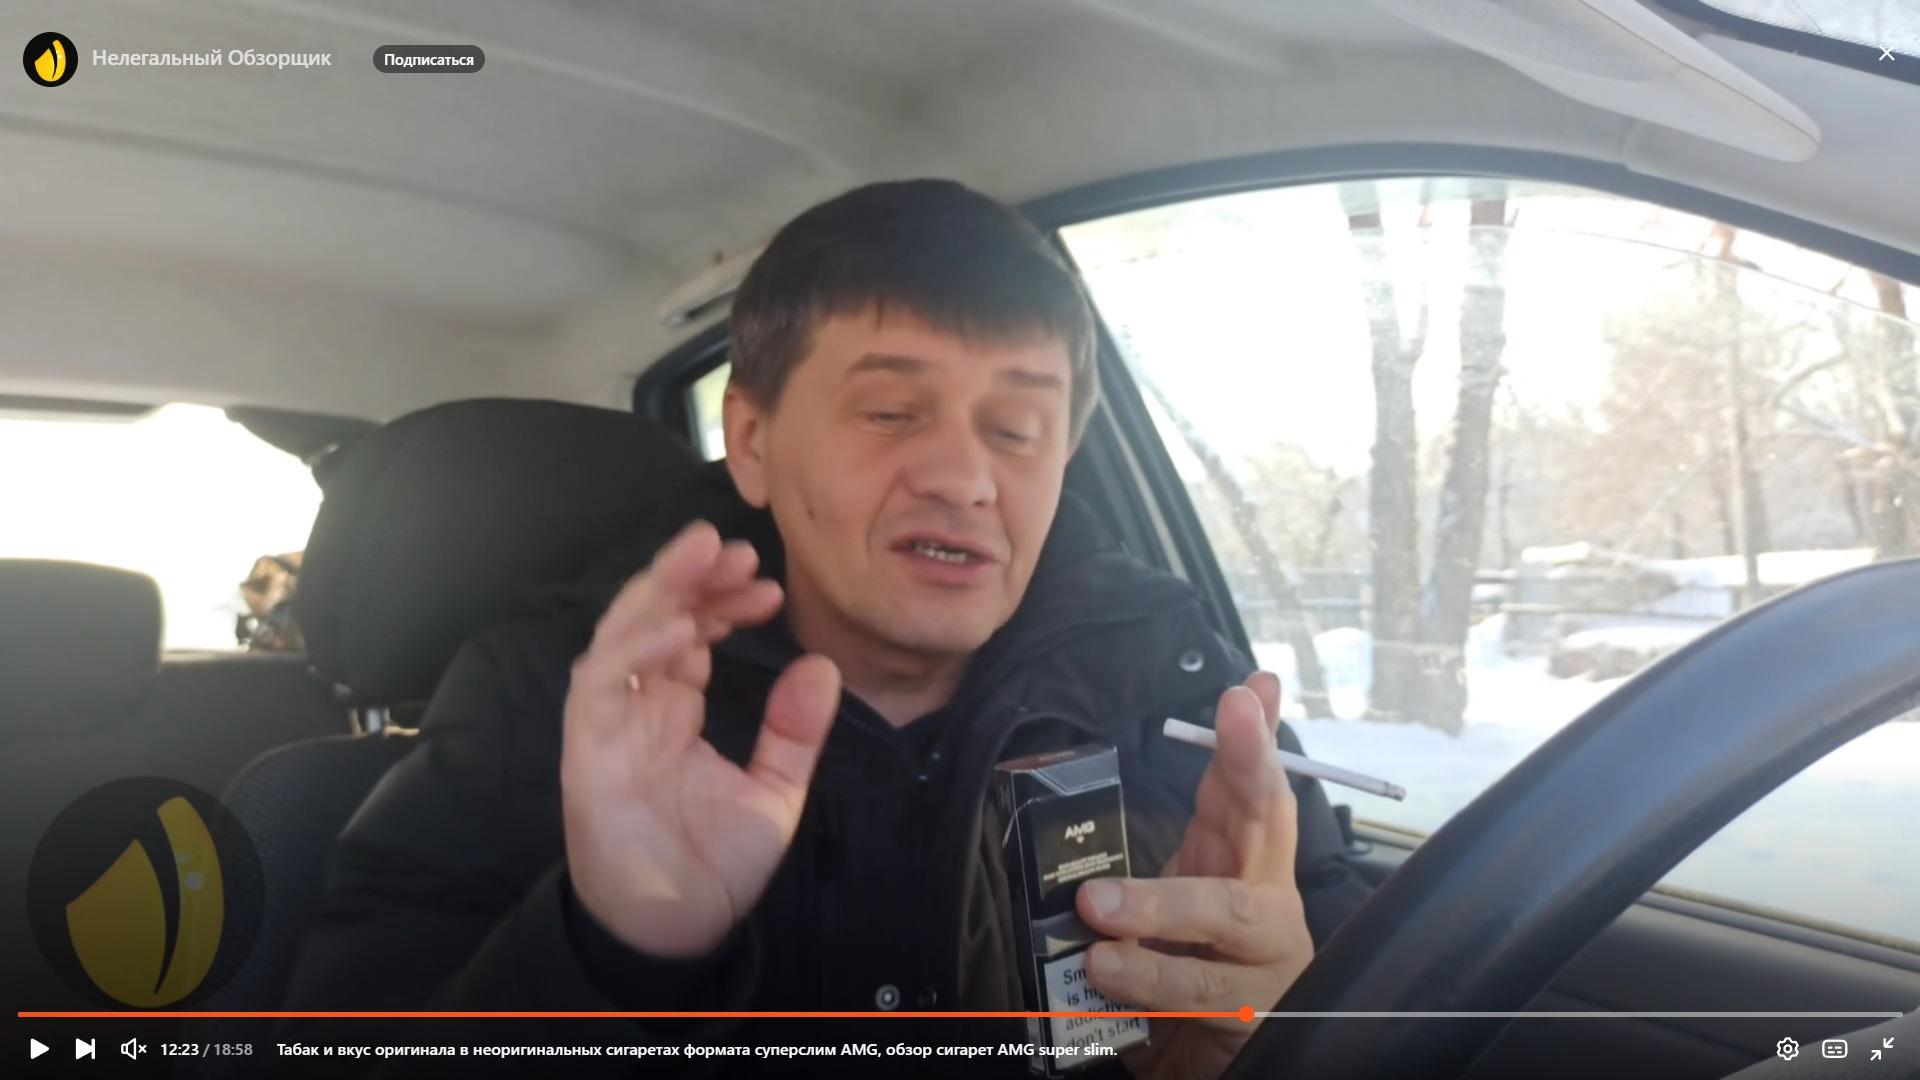cigarette: (1163, 717, 1410, 802)
